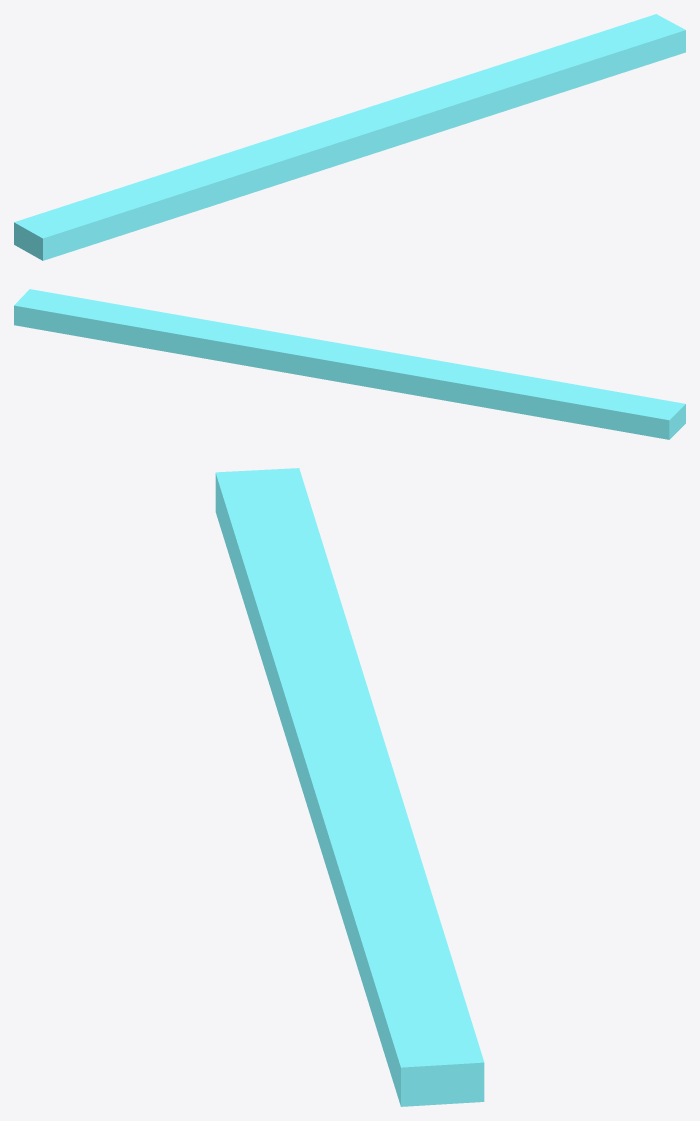
The model's file is Transit_AirGuide_Curve15_R32_EdgeTicks1.glb.
3 renders of one model, top to bottom at view 1: azimuth 30°, elevation 25°; view 2: azimuth 150°, elevation 25°; view 3: azimuth 270°, elevation 25°, orthographic. The views are drawn at different scales.
Parts seen in each view (by area): view 1: Transit_AirGuide_Curve15_R32_EdgeTicks1; view 2: Transit_AirGuide_Curve15_R32_EdgeTicks1; view 3: Transit_AirGuide_Curve15_R32_EdgeTicks1.
Boxes of the visible parts, x1,y1,x2,y2 form: Transit_AirGuide_Curve15_R32_EdgeTicks1: (14,14,685,260); Transit_AirGuide_Curve15_R32_EdgeTicks1: (14,289,685,439); Transit_AirGuide_Curve15_R32_EdgeTicks1: (215,468,484,1106).
Bounding box in the file's own units: 0.5886 × 0.018 × 0.1116.
